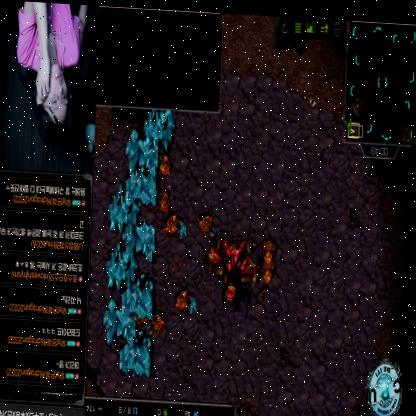streamer: (15, 1, 89, 141)
